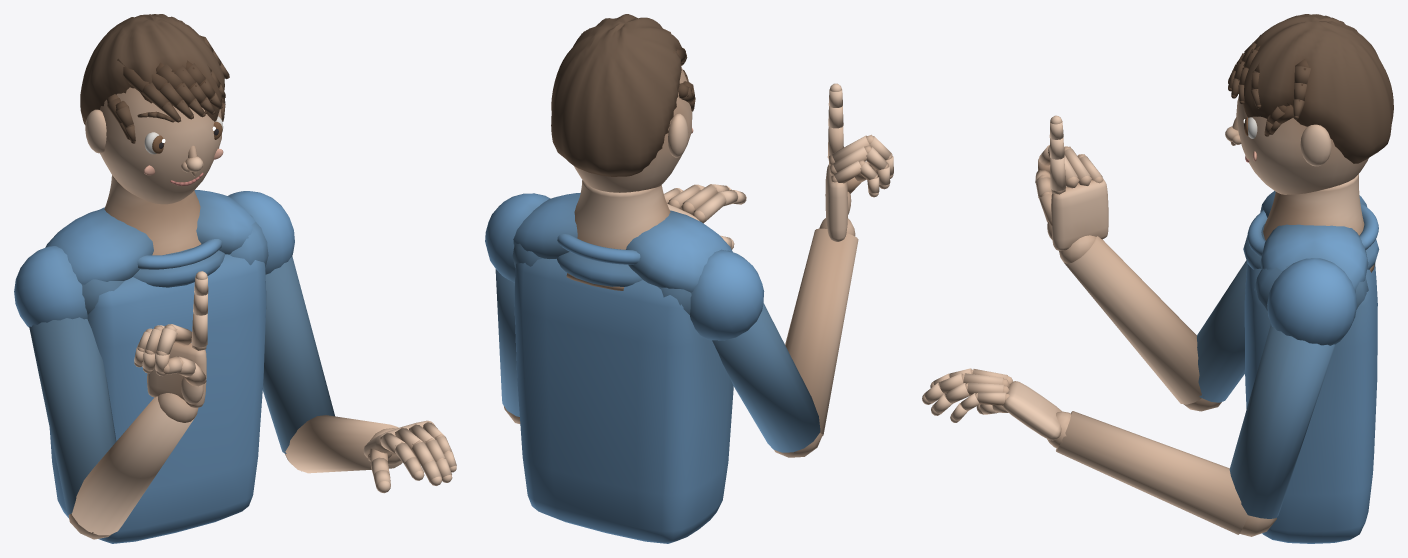
3 renders of one model, left to right at view 1: azimuth 30°, elevation 25°; view 2: azimuth 150°, elevation 25°; view 3: azimuth 270°, elevation 25°, orthographic.
Visible parts, largest first — view 1: LSC_Body; view 2: LSC_Body; view 3: LSC_Body.
Part boxes in pixels (x1,y1,x2,y2): LSC_Body: [14, 14, 456, 543]; LSC_Body: [485, 14, 893, 543]; LSC_Body: [922, 14, 1393, 543].
Bounding box in the file's own units: 0.4304 × 0.713 × 0.6104.
